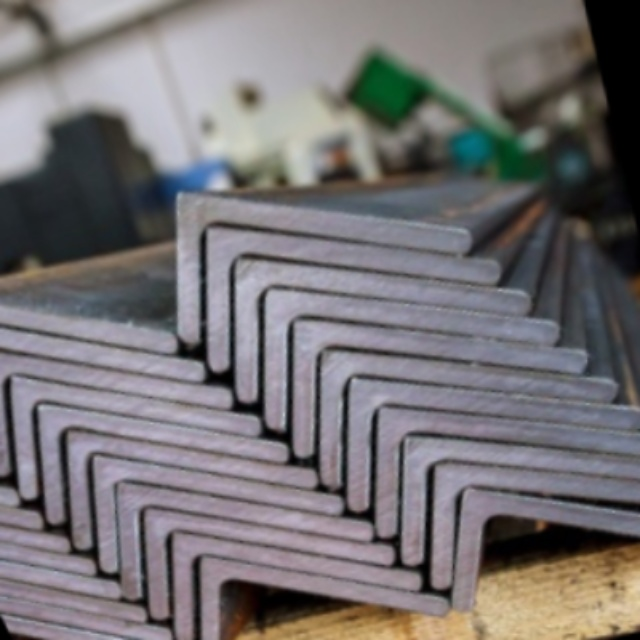Angle: (139, 129, 472, 338), (210, 197, 527, 389), (316, 324, 640, 509), (179, 168, 494, 355), (241, 233, 553, 420), (293, 294, 610, 478), (268, 269, 578, 447), (349, 349, 640, 532), (0, 327, 265, 499), (67, 410, 342, 575), (382, 384, 640, 557), (92, 438, 368, 598), (11, 361, 284, 522), (39, 386, 312, 547), (122, 463, 388, 624), (0, 299, 232, 471), (152, 491, 418, 640), (416, 413, 640, 574), (0, 276, 205, 445), (178, 518, 442, 640), (443, 455, 640, 615), (0, 239, 172, 412), (0, 535, 144, 640), (0, 555, 163, 640), (0, 503, 115, 623), (0, 575, 193, 640), (0, 478, 94, 597), (0, 461, 62, 570), (0, 439, 37, 545)
